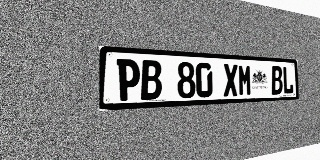0: (196, 62, 213, 98)
8: (177, 62, 195, 99)
B: (141, 60, 162, 100), (271, 66, 283, 95)
L: (282, 66, 293, 94)
M: (238, 64, 252, 96)
P: (117, 59, 140, 101)
X: (223, 64, 238, 97)
